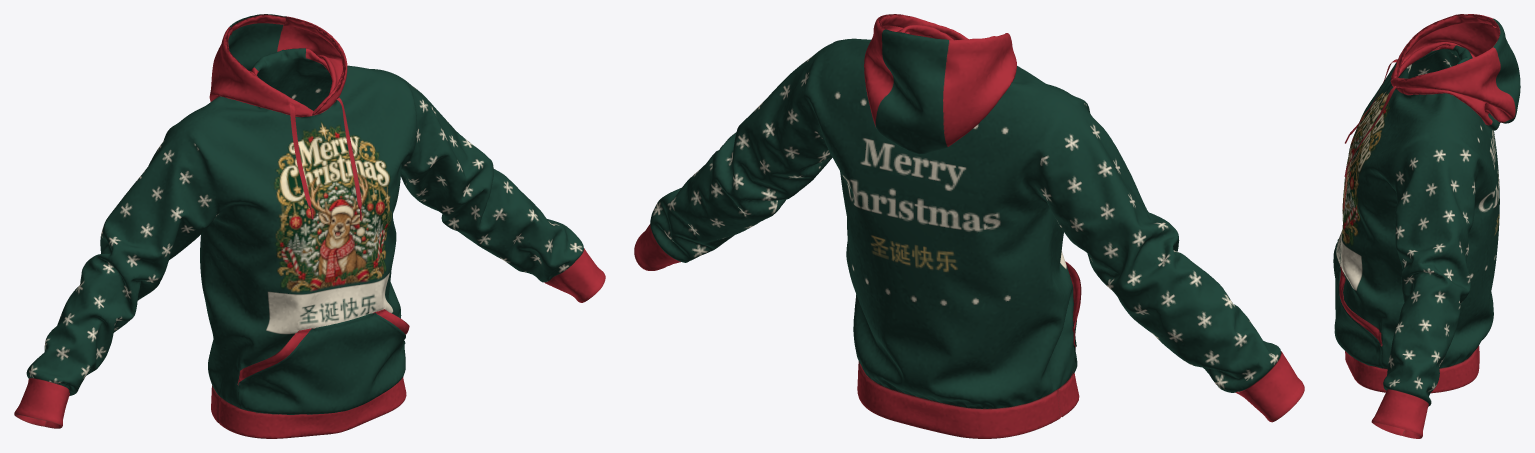
Rendered from designed-garment.glb.
3 renders of one model, left to right at view 1: azimuth 30°, elevation 25°; view 2: azimuth 150°, elevation 25°; view 3: azimuth 270°, elevation 25°, orthographic. The views are drawn at different scales.
Parts seen in each view (by area): view 1: 6_thin_unweld; view 2: 6_thin_unweld; view 3: 6_thin_unweld.
Boxes of the visible parts, x1=… form: 6_thin_unweld: x1=14, y1=14, x2=605, y2=438; 6_thin_unweld: x1=634, y1=14, x2=1304, y2=438; 6_thin_unweld: x1=1333, y1=14, x2=1520, y2=438.
Size of the model in its own units: 119 by 69.48 by 35.83.
1 material, 1 textured.
